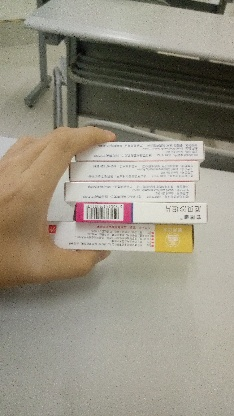pillbox: (46, 216, 196, 255), (73, 199, 209, 228), (68, 158, 203, 182), (62, 179, 197, 203), (75, 139, 202, 158)
